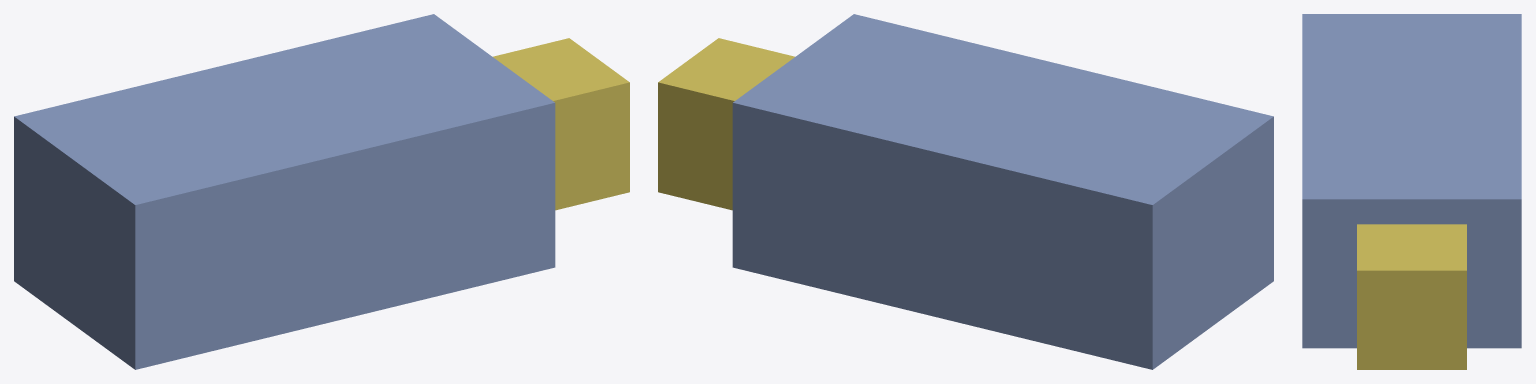
The model's file is arrow.glb.
The picture shows the model from 3 angles, left to right: view 1: azimuth 30°, elevation 25°; view 2: azimuth 150°, elevation 25°; view 3: azimuth 270°, elevation 25°; orthographic projection. The views are drawn at different scales.
Parts seen in each view (by area): view 1: geometry_0, geometry_1; view 2: geometry_0, geometry_1; view 3: geometry_0, geometry_1.
Part boxes in pixels (bbox=[...]): geometry_0: bbox=[14, 14, 555, 369]; geometry_1: bbox=[493, 38, 629, 210]; geometry_0: bbox=[732, 14, 1273, 369]; geometry_1: bbox=[658, 38, 794, 210]; geometry_0: bbox=[1302, 14, 1521, 348]; geometry_1: bbox=[1357, 224, 1466, 369].
Bounding box in the file's own units: 1 × 0.3 × 0.4.
